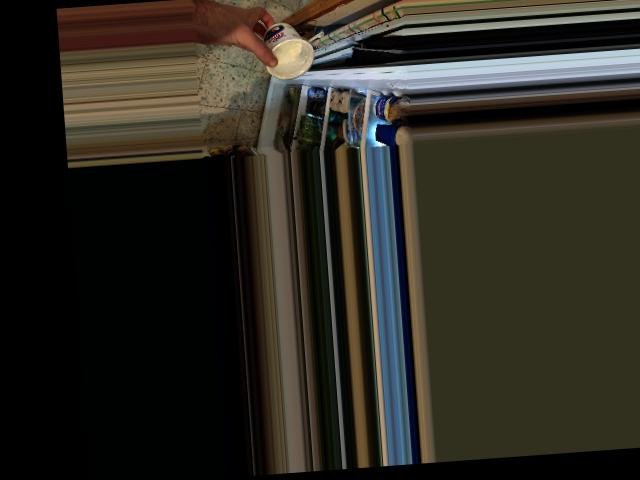cotage: (257, 17, 316, 81)
